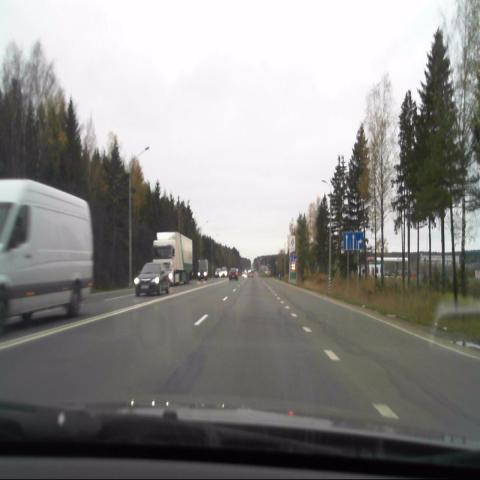5_15_1: (343, 232, 363, 249)
